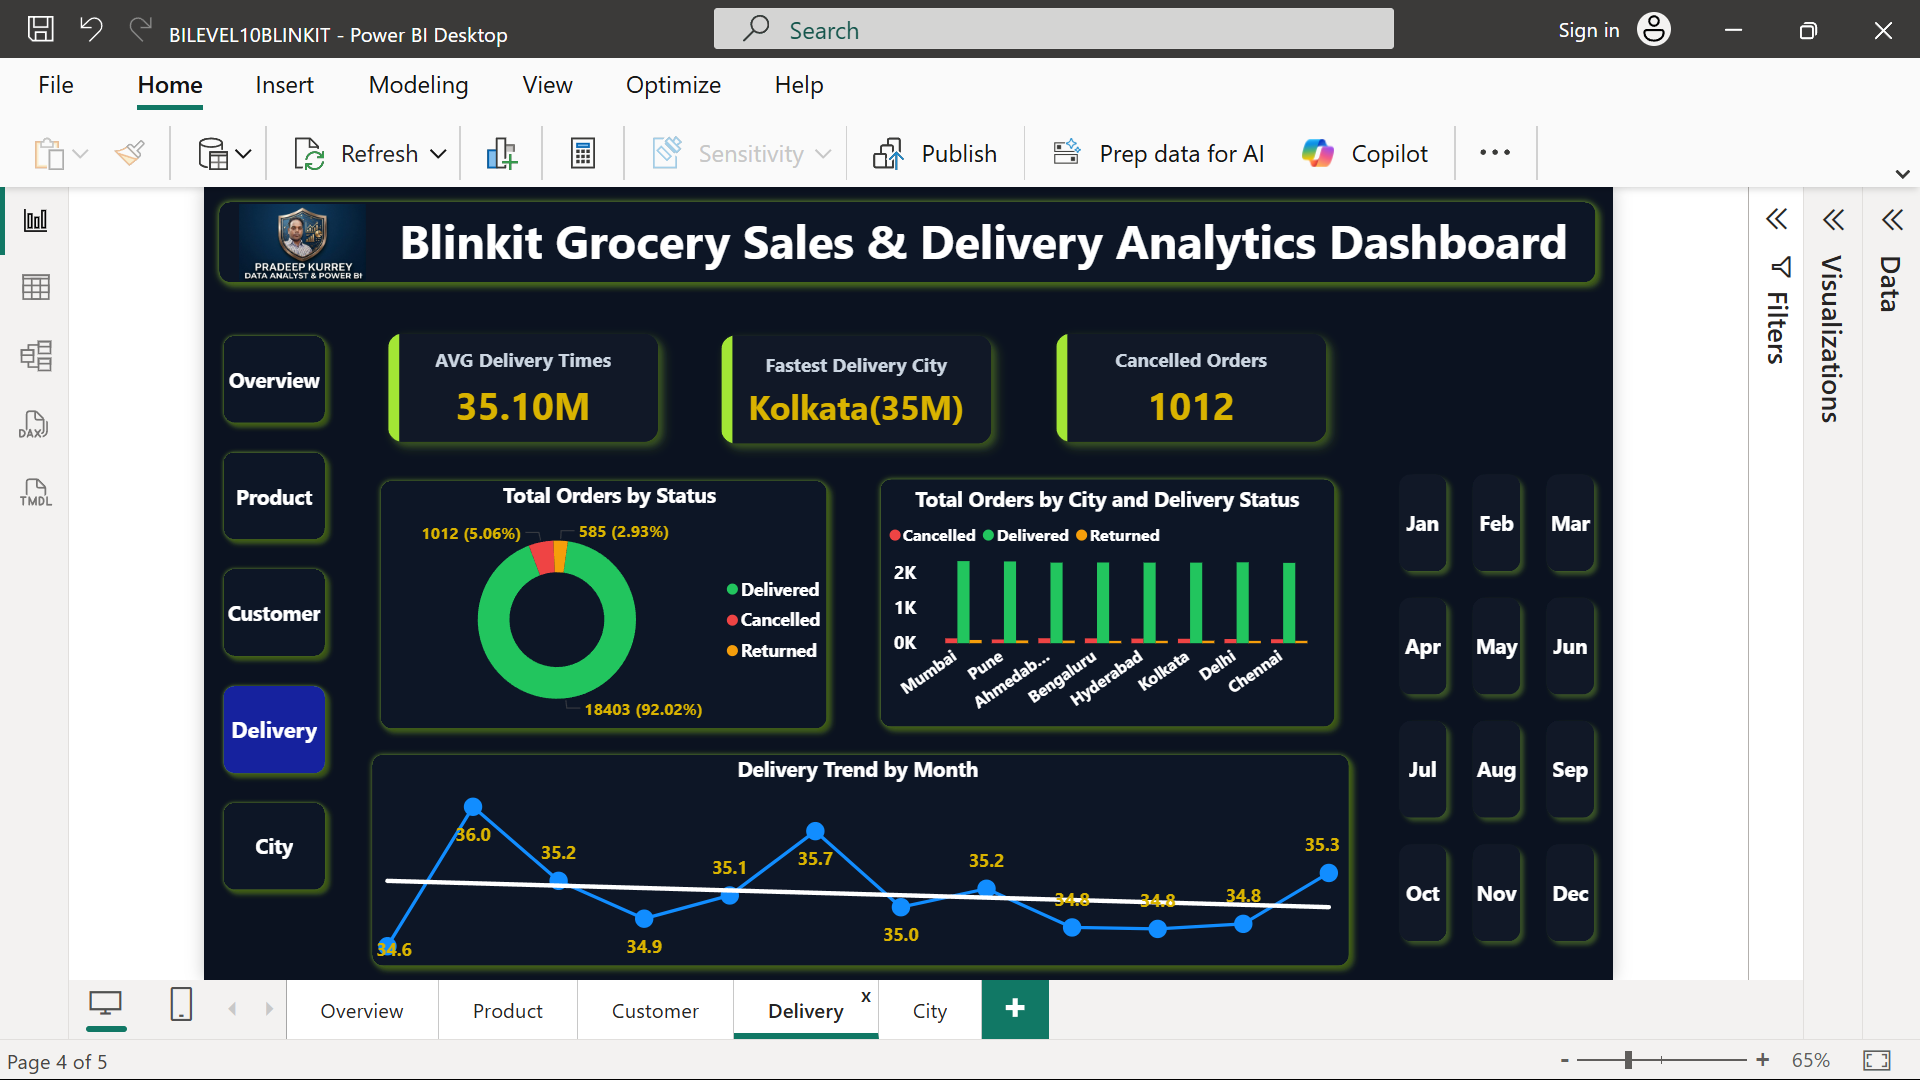

Layout of this report page (visuals, bound fields, positions):
{"tool":"powerbi","page":{"name":"Delivery ","canvas":[1280,720],"ordinal":3},"visuals":[{"type":"shape","box":[4.5,4.5,1268.2,90.9],"z":0},{"type":"textbox","box":[9.1,13.6,1247.7,70.5],"z":1000},{"type":"pageNavigator","box":[9.1,127.3,109.1,522.7],"z":2000},{"type":"advancedSlicerVisual","fields":{"Values":["Date Table.Month"]},"box":[1068.5,244,211.5,461.7],"z":3000},{"type":"image","box":[7.5,14.9,164,69.6],"z":4000},{"type":"cardVisual","fields":{"Data":["Date Table.AVG Delivery Times"]},"box":[150.9,117.8,277.8,130.6],"z":5000},{"type":"cardVisual","fields":{"Data":["Date Table.Fastest Delivery City"]},"box":[454.5,119.6,277.8,130.6],"z":6000},{"type":"cardVisual","fields":{"Data":["Date Table.Cancelled Orders"]},"box":[758.1,117.8,277.8,130.6],"z":7000},{"type":"shape","box":[143.5,506,905.3,209.8],"z":8000},{"type":"lineChart","title":" Delivery Trend by Month","fields":{"Y":["Date Table.AVG Delivery Time"],"Category":["Date Table.Month No"]},"box":[150.9,515.2,885,189.5],"z":9000},{"type":"shape","box":[150.9,257.6,423.2,242.9],"z":10000},{"type":"donutChart","title":"Total Orders by Status","fields":{"Category":["Sheet1.Delivery_Status"],"Y":["Date Table.Total Orders"]},"box":[161.9,266.8,412.2,226.3],"z":11000},{"type":"shape","box":[605.4,255.8,430.6,242.9],"z":12000},{"type":"clusteredColumnChart","title":"Total Orders by City and Delivery Status","fields":{"Category":["Sheet1.City"],"Series":["Sheet1.Delivery_Status"],"Y":["Date Table.Total Orders"]},"box":[616.4,270.5,408.5,219],"z":13000}]}

Visuals, with their boxes on the page's 1280x720 design canvas (x1, y1, x2, y2). These are canvas units, not pixel positions in the 1920x1080 screenshot, which may show the page scaled, cropped or inside an application window:
shape: box(4, 4, 1273, 95)
textbox: box(9, 14, 1257, 84)
pageNavigator: box(9, 127, 118, 650)
advancedSlicerVisual - Date Table.Month: box(1068, 244, 1280, 706)
image: box(8, 15, 172, 84)
cardVisual - Date Table.AVG Delivery Times: box(151, 118, 429, 248)
cardVisual - Date Table.Fastest Delivery City: box(454, 120, 732, 250)
cardVisual - Date Table.Cancelled Orders: box(758, 118, 1036, 248)
shape: box(144, 506, 1049, 716)
" Delivery Trend by Month" lineChart: box(151, 515, 1036, 705)
shape: box(151, 258, 574, 500)
"Total Orders by Status" donutChart: box(162, 267, 574, 493)
shape: box(605, 256, 1036, 499)
"Total Orders by City and Delivery Status" clusteredColumnChart: box(616, 270, 1025, 490)
